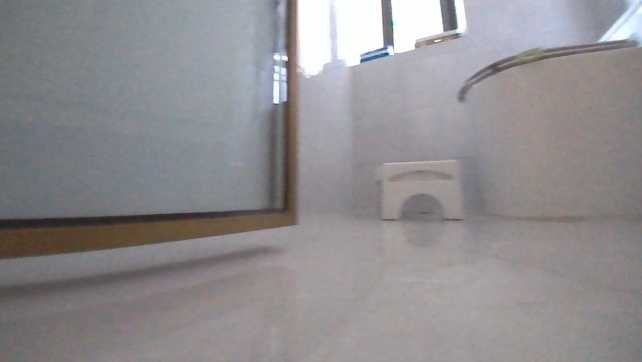toilet_part: (452, 2, 641, 221)
